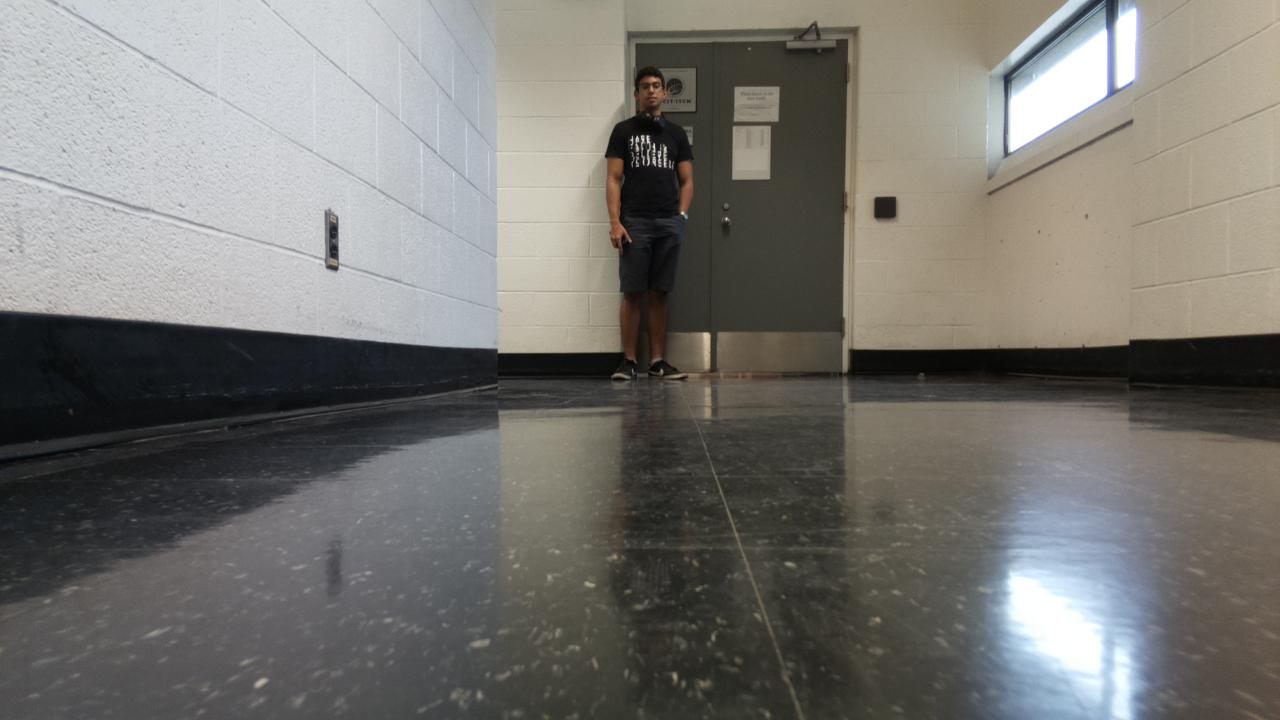door: (629, 39, 848, 374)
person: (603, 65, 696, 381)
